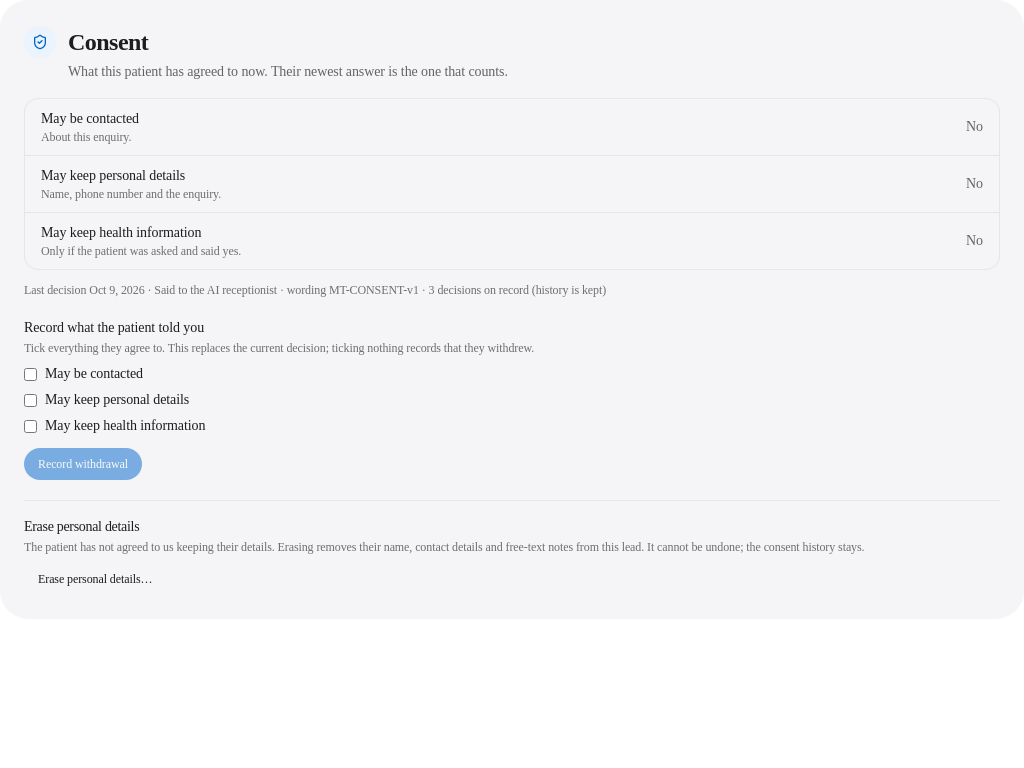
Test: LeadConsentPanel › offers erasure only after personal-data consent is gone, asks to confirm, then erases
This screenshot has width=1024, height=768.
Click the button "Erase personal details…": (95, 579) [24,563,166,595]
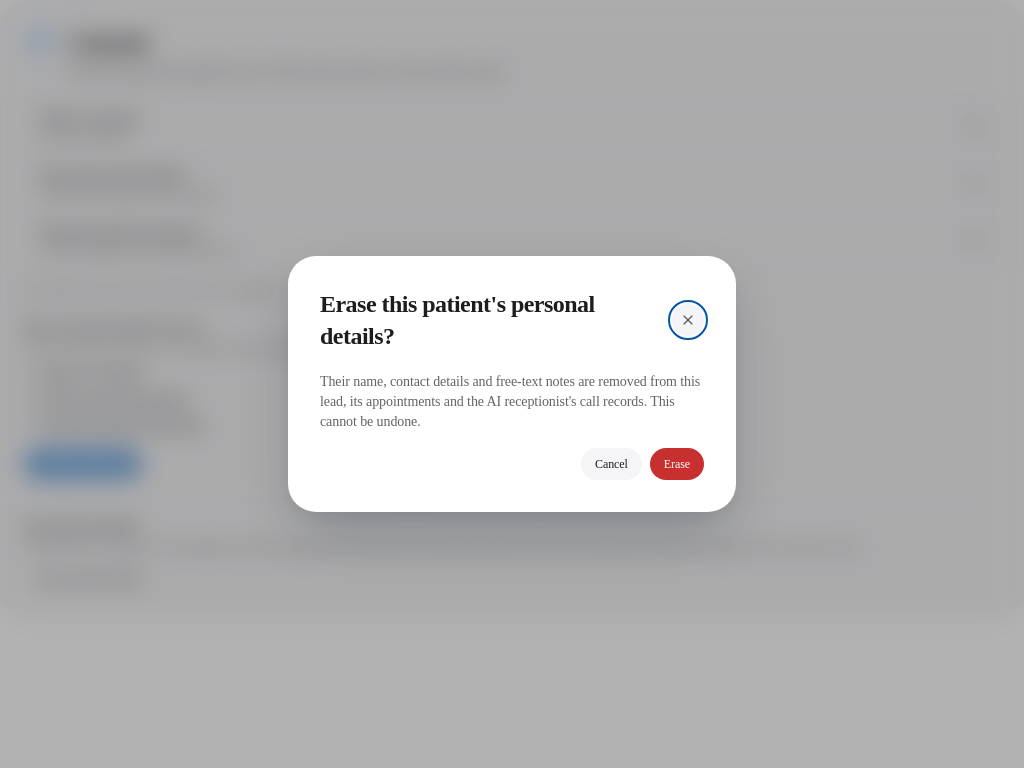
Expected: the text "This cannot be undone" is shown, [320,374,700,429]
Click the button "Erase": (677, 464) [650,448,704,480]
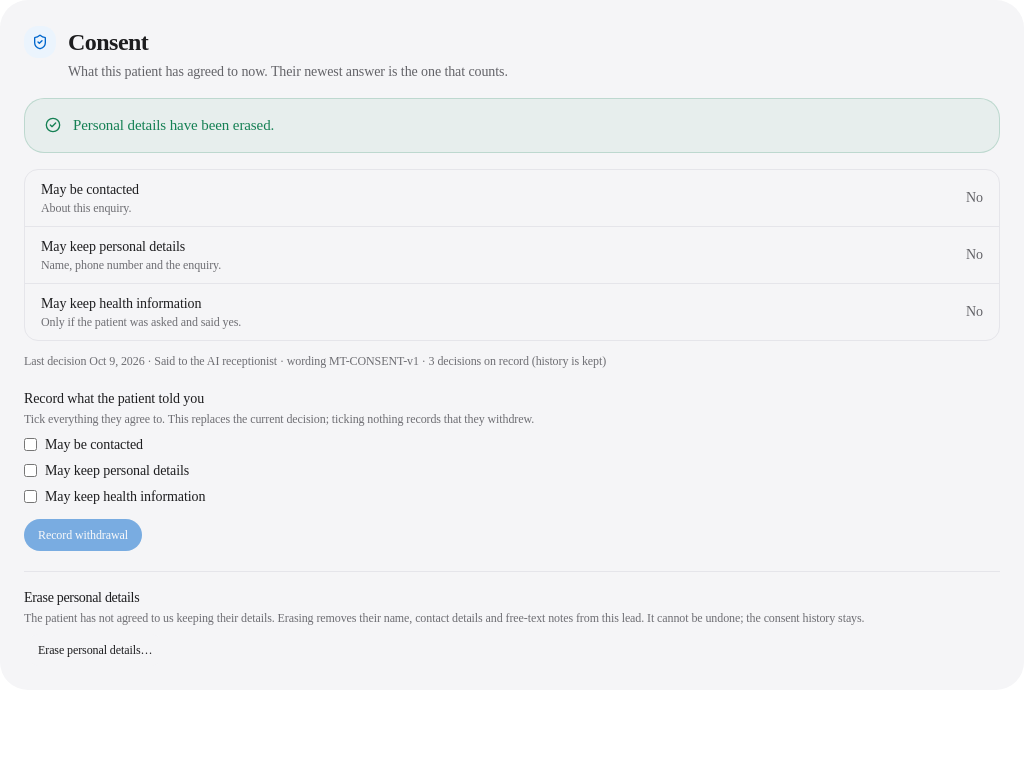
Expected: the text "Personal details have been erased." is shown, [73,117,274,133]
